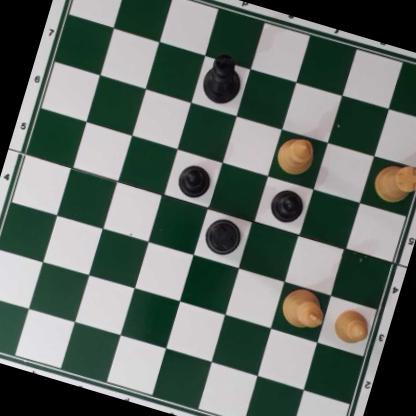black-king: (197, 48, 249, 109)
black-pawn: (173, 160, 215, 202), (267, 184, 307, 227)
black-rook: (202, 215, 245, 260)
white-bishop: (275, 132, 318, 179)
white-king: (276, 285, 330, 334)
white-pawn: (329, 305, 373, 347)
white-rook: (370, 156, 416, 209)
